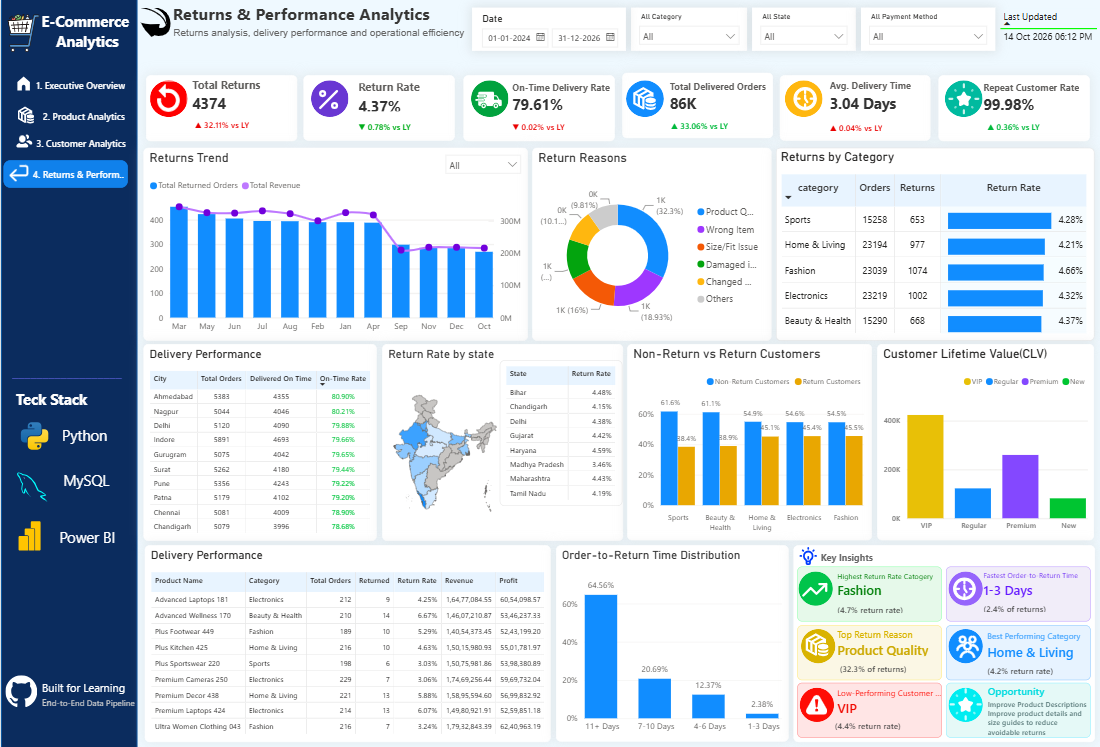

The page's visual inventory and layout, read from the dashboard file:
{"tool":"powerbi","page":{"name":"4. Returns & Perform..","canvas":[1600,1089],"ordinal":3},"visuals":[{"type":"slicer","fields":{"Values":["products.category"]},"box":[917,13,169,62],"z":0},{"type":"slicer","fields":{"Values":["calendar.date"]},"box":[686,13,223,62],"z":1000},{"type":"tableEx","fields":{"Values":["RefreshInfo.Last Updated Text"]},"box":[1447.1,8.6,153,69],"z":2000},{"type":"slicer","fields":{"Values":["customers.state"]},"box":[1093,13,150,62],"z":3000},{"type":"slicer","fields":{"Values":["orders.payment_method"]},"box":[1251,13,195,62],"z":4000},{"type":"shape","box":[0,0,198.3,1089.8],"z":5000},{"type":"image","box":[3.3,21.7,58.5,55.1],"z":6000},{"type":"textbox","box":[52.6,12.2,145.5,73.4],"z":7000},{"type":"actionButton","title":"1. Executive Overview","box":[7.1,191.7,178.6,38.1],"z":8000},{"type":"actionButton","title":"1. Executive Overview","box":[0,106,184.5,38.1],"z":9000},{"type":"actionButton","title":"1. Executive Overview","box":[3.3,234,180.5,40.1],"z":10000},{"type":"actionButton","title":"1. Executive Overview","box":[5,150.4,178.8,38.4],"z":11000},{"type":"image","box":[14.3,113.1,36.9,21.4],"z":12000},{"type":"image","box":[5,155.4,61.8,28.4],"z":13000},{"type":"image","box":[11.9,188.1,42.9,38.1],"z":14000},{"type":"textbox","box":[238.6,0,400,64.3],"z":15000},{"type":"textbox","box":[245.7,34.3,491.4,37.1],"z":16000},{"type":"textbox","box":[11,522,181,41],"z":17000},{"type":"image","box":[23.4,612.5,50,45.3],"z":18000},{"type":"image","box":[20.3,681.2,50,56],"z":19000},{"type":"image","box":[17.2,757.8,50,45.3],"z":20000},{"type":"textbox","box":[84,614,88,39],"z":21000},{"type":"textbox","box":[84.7,680.9,88,39],"z":22000},{"type":"textbox","box":[79.8,764.3,103.6,39.3],"z":23000},{"type":"textbox","box":[17.2,562.5,139.1,39.1],"z":24000},{"type":"image","box":[11.7,239,30.1,30.1],"z":25000},{"type":"textbox","box":[55.4,1008.9,168.6,32.9],"z":26000},{"type":"image","box":[0,983.9,58.9,46.4],"z":27000},{"type":"textbox","box":[55.4,985.7,139.3,42.9],"z":28000},{"type":"shape","box":[1132.9,110,219.4,95.5],"z":29000},{"type":"shape","box":[210,110,220,95.7],"z":30000},{"type":"shape","box":[1364.3,110,220,95.7],"z":31000},{"type":"shape","box":[902.9,107.1,219.4,95.5],"z":32000},{"type":"shape","box":[440.5,110.7,220.2,95.2],"z":33000},{"type":"shape","box":[672.9,110,220,95.7],"z":34000},{"type":"cardVisual","fields":{"Data":["returns.Total Returned Orders"]},"box":[248.8,102.4,211,75.6],"z":35000},{"type":"cardVisual","fields":{"Data":["returns.Returns VS LY"]},"box":[252.4,156,139.3,53.6],"z":36000},{"type":"shape","box":[450,119,54.8,53.6],"z":37000},{"type":"shape","box":[1140.5,119,55.2,53.7],"z":38000},{"type":"shape","box":[908.3,119,55.2,53.7],"z":39000},{"type":"shape","box":[683.3,119,54.8,53.6],"z":40000},{"type":"shape","box":[216.7,119,55.2,53.7],"z":41000},{"type":"shape","box":[1372.6,119,55.2,53.7],"z":42000},{"type":"image","box":[216.7,117.9,54.8,58.3],"z":43000},{"type":"cardVisual","fields":{"Data":["returns.Return Rate VS LY"]},"box":[491.7,158.3,139.3,53.6],"z":44000},{"type":"cardVisual","fields":{"Data":["returns.Return Rate %"]},"box":[491.5,104.9,161,75],"z":45000},{"type":"image","box":[451.2,125.3,51.8,41.8],"z":46000},{"type":"cardVisual","fields":{"Data":["orders.On-Time Delivery Rate"]},"box":[714.6,104.9,202.4,75.6],"z":47000},{"type":"cardVisual","fields":{"Data":["orders.On-Time Delivery VS LY"]},"box":[714.6,158.5,139.3,53.6],"z":48000},{"type":"image","box":[684.1,128,51.2,39],"z":49000},{"type":"cardVisual","fields":{"Data":["orders.Total Delivered Orders VS LY"]},"box":[946.3,156.1,157.3,53.7],"z":50000},{"type":"image","box":[909.8,125.6,53.7,39],"z":51000},{"type":"cardVisual","fields":{"Data":["orders.Avg. Delivery Time"]},"box":[1175.6,100,189,82.9],"z":52000},{"type":"cardVisual","fields":{"Data":["customers.Avg. Delivery Time VS LY"]},"box":[1175.6,159.8,157.3,53.7],"z":53000},{"type":"cardVisual","fields":{"Data":["orders.Repeat Customer Rate"]},"box":[1400,104.9,200,75.6],"z":54000},{"type":"cardVisual","fields":{"Data":["orders.Repeat Customer Rate VS LY"]},"box":[1404.9,158.5,157.3,53.7],"z":55000},{"type":"image","box":[1142.9,119,52.4,53.6],"z":56000},{"type":"image","box":[1375,120.2,52.4,50],"z":57000},{"type":"image","box":[201.2,9.5,46,50],"z":58000},{"type":"lineClusteredColumnComboChart","title":"Returns Trend","fields":{"Category":["calendar.Month Name"],"Y":["returns.Total Returned Orders"],"Y2":["orders.Total Revenue"]},"box":[207.1,215.5,559,281],"z":59000},{"type":"slicer","title":"Returns Trend","fields":{"Values":["calendar.Year"]},"box":[636.9,215.5,130.4,48.5],"z":60000},{"type":"donutChart","title":"Return Reasons","fields":{"Category":["returns.return_reason"],"Y":["returns.Total Returned Orders"]},"box":[772.2,215.6,347.8,281.1],"z":61000},{"type":"shape","box":[1126.7,215.6,463,281.1],"z":62000},{"type":"tableEx","title":"Returns by Category","fields":{"Values":["products.category","orders.Total Orders","returns.Total Returned Orders","returns.Return Rate %"]},"box":[1128.9,217.8,457.8,274.4],"z":63000},{"type":"barChart","fields":{"Category":["products.category"],"Y":["returns.Return Rate %"]},"box":[1372.2,298.9,203.3,193.3],"z":64000},{"type":"tableEx","title":"Delivery Performance","fields":{"Values":["customers.city","orders.Total Orders","orders.Delivered On Time","orders.On-Time Delivery Rate"]},"box":[207.4,501.9,339,286],"z":65000},{"type":"shape","box":[554.6,501.9,350,286],"z":66000},{"type":"shapeMap","title":"Return Rate  by state","fields":{"Category":["customers.state"],"Value":["returns.Return Rate %"]},"box":[557.4,504.6,175.9,280.6],"z":67000},{"type":"tableEx","title":"Delivery Performance","fields":{"Values":["customers.state","returns.Return Rate %"]},"box":[725,526.2,178,212],"z":68000},{"type":"clusteredColumnChart","title":"Non-Return vs Return Customers ","fields":{"Category":["products.category"],"Y":["customers.Non-Return Customers %","customers.Return Customers %"]},"box":[910.7,502.4,356,285.7],"z":69000},{"type":"columnChart","title":"Customer Lifetime Value(CLV)","fields":{"Y":["customers.Customer Lifetime Value"],"Category":["customers.Customer Segment"],"Series":["customers.Customer Segment"]},"box":[1275,502.4,315.5,285.7],"z":70000},{"type":"tableEx","title":"Delivery Performance","fields":{"Values":["products.product_name","products.category","orders.Total Orders","returns.Total Returned Orders","returns.Return Rate %","orders.Total Revenue","orders.Total Profit"]},"box":[209,794,590,286],"z":71000},{"type":"columnChart","title":"Order-to-Return Time Distribution","fields":{"Y":["returns.Return Time Group %"],"Category":["returns.Return Time Group"]},"box":[807.1,794,338.1,285.7],"z":72000},{"type":"shape","box":[1152,794,438,286],"z":73000},{"type":"shape","box":[1158,826,210,80],"z":74000},{"type":"shape","box":[1374,826,210,80],"z":75000},{"type":"shape","box":[1375,995,210,80],"z":76000},{"type":"shape","box":[1158,994,210,80],"z":77000},{"type":"shape","box":[1158,910,210,80],"z":78000},{"type":"shape","box":[1375,911,210,80],"z":79000},{"type":"image","box":[1158,794,32,31],"z":80000},{"type":"textbox","box":[1187,799,97,30],"z":81000},{"type":"cardVisual","fields":{"Data":["returns.Highest Return Rate Catogery"]},"box":[1186.9,816.7,203.6,72.6],"z":82000},{"type":"cardVisual","fields":{"Data":["returns.Heighest return rate Description"]},"box":[1186.9,865.5,161.9,45.2],"z":83000},{"type":"cardVisual","fields":{"Data":["orders.Total Delivered Orders"]},"box":[943.8,103.8,202.4,75.6],"z":84000},{"type":"shape","box":[1160.7,833.3,50,50],"z":85000},{"type":"image","box":[1163.8,833.8,40,50],"z":86000},{"type":"cardVisual","fields":{"Data":["returns.Fastest Order-to-Return Time"]},"box":[1400,816.7,200,71.4],"z":87000},{"type":"cardVisual","fields":{"Data":["returns.Fastest order to-returnet  Description"]},"box":[1400,864.3,151.2,45.2],"z":88000},{"type":"shape","box":[1377.4,833.3,50,50],"z":89000},{"type":"image","box":[1375,833.3,53.6,50],"z":90000},{"type":"shape","box":[1163.1,915.5,50,50],"z":91000},{"type":"cardVisual","fields":{"Data":["returns.Top Return Reason"]},"box":[1186.9,902.4,200,71.4],"z":92000},{"type":"cardVisual","fields":{"Data":["returns.Return reason Description"]},"box":[1190.5,946.4,158.3,52.4],"z":93000},{"type":"image","box":[1160.7,920.2,53.7,39],"z":94000},{"type":"cardVisual","fields":{"Data":["returns.Best Performing Category"]},"box":[1406,902.4,194,77.4],"z":95000},{"type":"cardVisual","fields":{"Data":["returns.Low-Performing Customer Segment"]},"box":[1186.9,983.3,210.7,77.4],"z":96000},{"type":"cardVisual","title":"Opportunity","fields":{"Data":["returns.Opportunity page 4"]},"box":[1418,965,182,124],"z":97000},{"type":"cardVisual","fields":{"Data":["returns.Low-Performing Description"]},"box":[1184.5,1029.8,158.3,52.4],"z":98000},{"type":"cardVisual","fields":{"Data":["returns.Best Performing Description"]},"box":[1406,949,161,53],"z":99000},{"type":"shape","box":[1377.4,1001.2,50,50],"z":100000},{"type":"shape","box":[1378.6,915.5,50,50],"z":101000},{"type":"shape","box":[1161.9,1001.2,50,50],"z":102000},{"type":"image","box":[1376.2,1000,53.6,52.4],"z":103000},{"type":"image","box":[1164.3,1010.7,45.2,31],"z":104000},{"type":"image","box":[1382.1,926.2,47.6,33.3],"z":105000}]}

Visuals, with their boxes on the page's 1600x1089 design canvas (x1, y1, x2, y2). These are canvas units, not pixel positions in the 1100x747 screenshot, which may show the page scaled, cropped or inside an application window:
slicer - products.category: box=[917, 13, 1086, 75]
slicer - calendar.date: box=[686, 13, 909, 75]
tableEx - RefreshInfo.Last Updated Text: box=[1447, 9, 1600, 78]
slicer - customers.state: box=[1093, 13, 1243, 75]
slicer - orders.payment_method: box=[1251, 13, 1446, 75]
shape: box=[0, 0, 198, 1090]
image: box=[3, 22, 62, 77]
textbox: box=[53, 12, 198, 86]
"1. Executive Overview" actionButton: box=[7, 192, 186, 230]
"1. Executive Overview" actionButton: box=[0, 106, 184, 144]
"1. Executive Overview" actionButton: box=[3, 234, 184, 274]
"1. Executive Overview" actionButton: box=[5, 150, 184, 189]
image: box=[14, 113, 51, 134]
image: box=[5, 155, 67, 184]
image: box=[12, 188, 55, 226]
textbox: box=[239, 0, 639, 64]
textbox: box=[246, 34, 737, 71]
textbox: box=[11, 522, 192, 563]
image: box=[23, 612, 73, 658]
image: box=[20, 681, 70, 737]
image: box=[17, 758, 67, 803]
textbox: box=[84, 614, 172, 653]
textbox: box=[85, 681, 173, 720]
textbox: box=[80, 764, 183, 804]
textbox: box=[17, 562, 156, 602]
image: box=[12, 239, 42, 269]
textbox: box=[55, 1009, 224, 1042]
image: box=[0, 984, 59, 1030]
textbox: box=[55, 986, 195, 1029]
shape: box=[1133, 110, 1352, 206]
shape: box=[210, 110, 430, 206]
shape: box=[1364, 110, 1584, 206]
shape: box=[903, 107, 1122, 203]
shape: box=[440, 111, 661, 206]
shape: box=[673, 110, 893, 206]
cardVisual - returns.Total Returned Orders: box=[249, 102, 460, 178]
cardVisual - returns.Returns VS LY: box=[252, 156, 392, 210]
shape: box=[450, 119, 505, 173]
shape: box=[1140, 119, 1196, 173]
shape: box=[908, 119, 964, 173]
shape: box=[683, 119, 738, 173]
shape: box=[217, 119, 272, 173]
shape: box=[1373, 119, 1428, 173]
image: box=[217, 118, 272, 176]
cardVisual - returns.Return Rate VS LY: box=[492, 158, 631, 212]
cardVisual - returns.Return Rate %: box=[492, 105, 652, 180]
image: box=[451, 125, 503, 167]
cardVisual - orders.On-Time Delivery Rate: box=[715, 105, 917, 180]
cardVisual - orders.On-Time Delivery VS LY: box=[715, 158, 854, 212]
image: box=[684, 128, 735, 167]
cardVisual - orders.Total Delivered Orders VS LY: box=[946, 156, 1104, 210]
image: box=[910, 126, 964, 165]
cardVisual - orders.Avg. Delivery Time: box=[1176, 100, 1365, 183]
cardVisual - customers.Avg. Delivery Time VS LY: box=[1176, 160, 1333, 214]
cardVisual - orders.Repeat Customer Rate: box=[1400, 105, 1600, 180]
cardVisual - orders.Repeat Customer Rate VS LY: box=[1405, 158, 1562, 212]
image: box=[1143, 119, 1195, 173]
image: box=[1375, 120, 1427, 170]
image: box=[201, 10, 247, 60]
"Returns Trend" lineClusteredColumnComboChart: box=[207, 216, 766, 496]
"Returns Trend" slicer: box=[637, 216, 767, 264]
"Return Reasons" donutChart: box=[772, 216, 1120, 497]
shape: box=[1127, 216, 1590, 497]
"Returns by Category" tableEx: box=[1129, 218, 1587, 492]
barChart - products.category x returns.Return Rate %: box=[1372, 299, 1576, 492]
"Delivery Performance" tableEx: box=[207, 502, 546, 788]
shape: box=[555, 502, 905, 788]
"Return Rate  by state" shapeMap: box=[557, 505, 733, 785]
"Delivery Performance" tableEx: box=[725, 526, 903, 738]
"Non-Return vs Return Customers " clusteredColumnChart: box=[911, 502, 1267, 788]
"Customer Lifetime Value(CLV)" columnChart: box=[1275, 502, 1590, 788]
"Delivery Performance" tableEx: box=[209, 794, 799, 1080]
"Order-to-Return Time Distribution" columnChart: box=[807, 794, 1145, 1080]
shape: box=[1152, 794, 1590, 1080]
shape: box=[1158, 826, 1368, 906]
shape: box=[1374, 826, 1584, 906]
shape: box=[1375, 995, 1585, 1075]
shape: box=[1158, 994, 1368, 1074]
shape: box=[1158, 910, 1368, 990]
shape: box=[1375, 911, 1585, 991]
image: box=[1158, 794, 1190, 825]
textbox: box=[1187, 799, 1284, 829]
cardVisual - returns.Highest Return Rate Catogery: box=[1187, 817, 1390, 889]
cardVisual - returns.Heighest return rate Description: box=[1187, 866, 1349, 911]
cardVisual - orders.Total Delivered Orders: box=[944, 104, 1146, 179]
shape: box=[1161, 833, 1211, 883]
image: box=[1164, 834, 1204, 884]
cardVisual - returns.Fastest Order-to-Return Time: box=[1400, 817, 1600, 888]
cardVisual - returns.Fastest order to-returnet  Description: box=[1400, 864, 1551, 910]
shape: box=[1377, 833, 1427, 883]
image: box=[1375, 833, 1429, 883]
shape: box=[1163, 916, 1213, 966]
cardVisual - returns.Top Return Reason: box=[1187, 902, 1387, 974]
cardVisual - returns.Return reason Description: box=[1190, 946, 1349, 999]
image: box=[1161, 920, 1214, 959]
cardVisual - returns.Best Performing Category: box=[1406, 902, 1600, 980]
cardVisual - returns.Low-Performing Customer Segment: box=[1187, 983, 1398, 1061]
"Opportunity" cardVisual: box=[1418, 965, 1600, 1089]
cardVisual - returns.Low-Performing Description: box=[1184, 1030, 1343, 1082]
cardVisual - returns.Best Performing Description: box=[1406, 949, 1567, 1002]
shape: box=[1377, 1001, 1427, 1051]
shape: box=[1379, 916, 1429, 966]
shape: box=[1162, 1001, 1212, 1051]
image: box=[1376, 1000, 1430, 1052]
image: box=[1164, 1011, 1210, 1042]
image: box=[1382, 926, 1430, 960]
